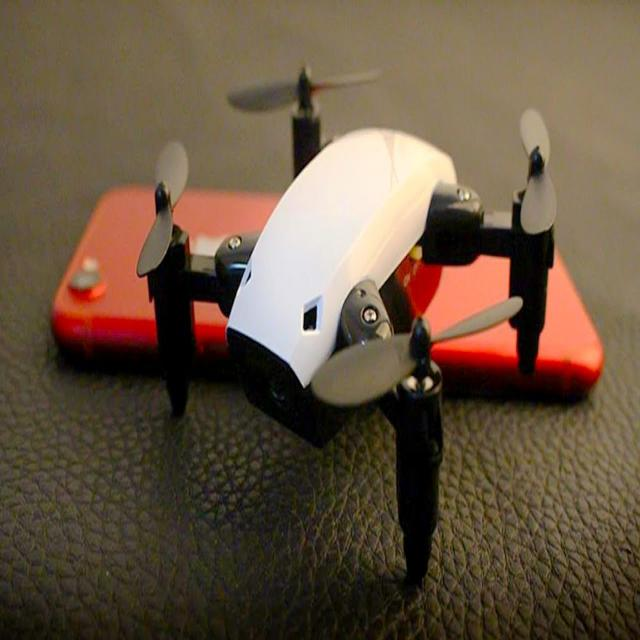drones: (132, 54, 564, 589)
